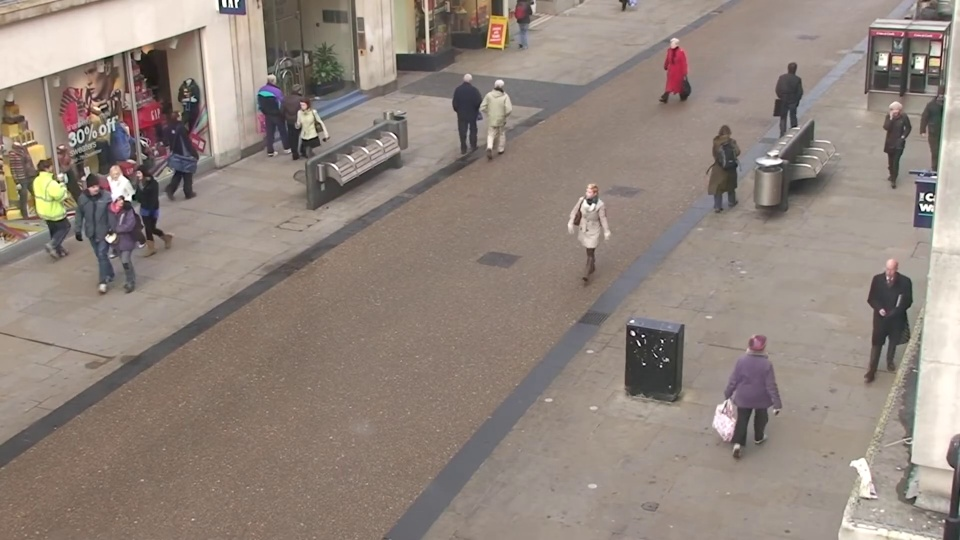pedestrian: (734, 317, 787, 466), (854, 258, 908, 394), (93, 190, 143, 303), (70, 180, 120, 290), (35, 151, 85, 254), (89, 161, 136, 266), (117, 163, 162, 269), (569, 183, 606, 297), (871, 100, 913, 195), (168, 103, 205, 193), (711, 117, 744, 214), (286, 96, 319, 185), (286, 79, 318, 164), (778, 58, 810, 140), (263, 70, 294, 151), (459, 70, 488, 153), (488, 70, 517, 153), (654, 36, 679, 110)
